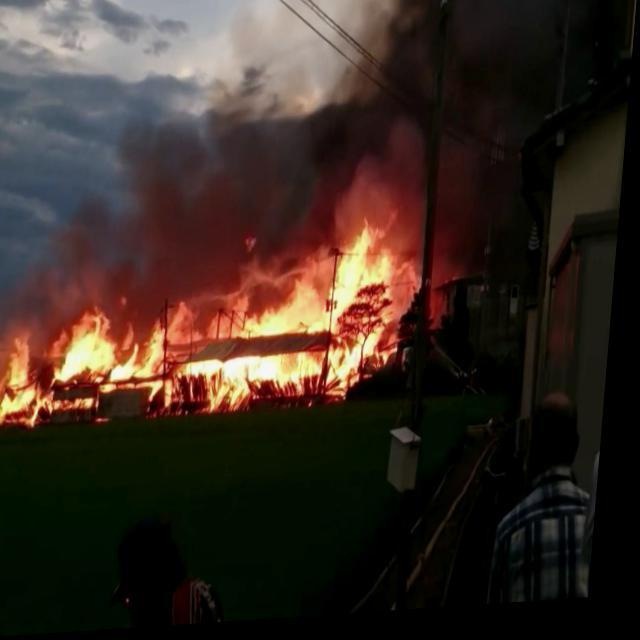Fire: (0, 224, 412, 428)
